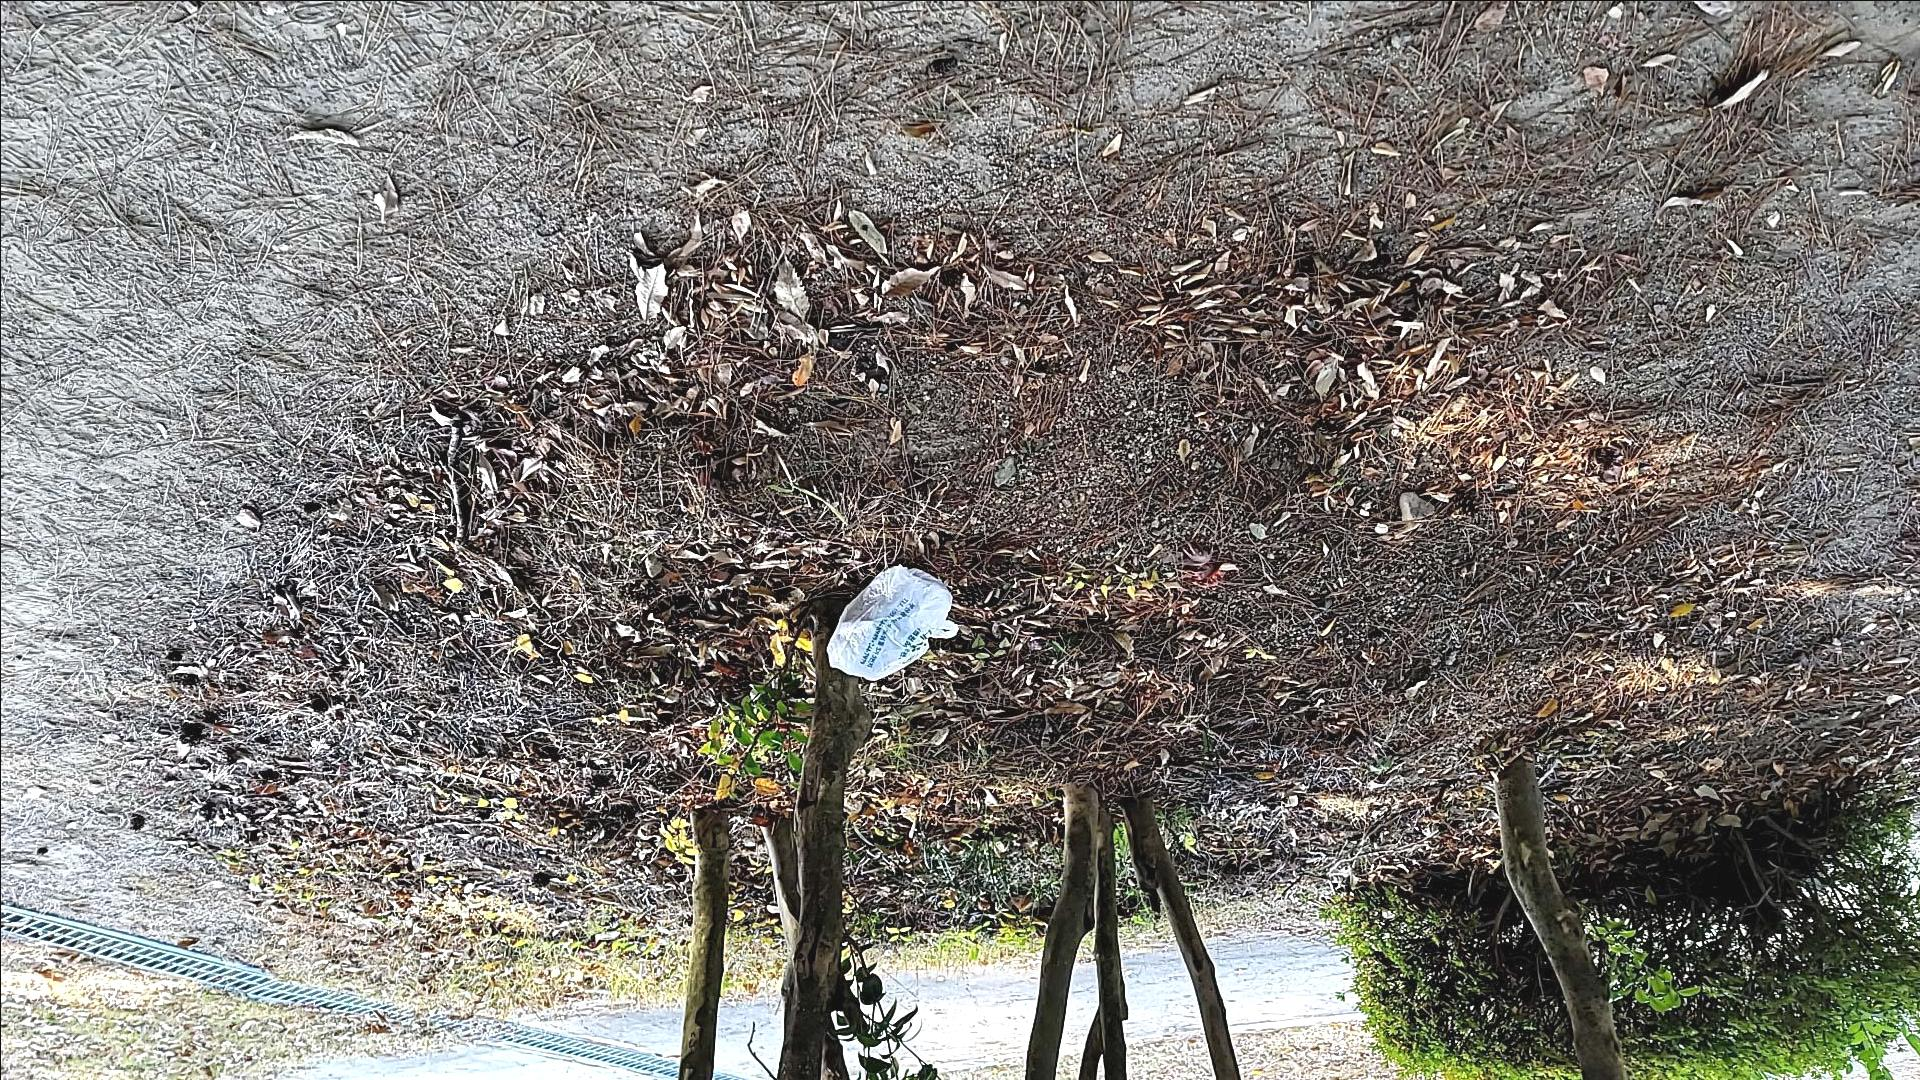white_bag: (825, 553, 976, 691)
